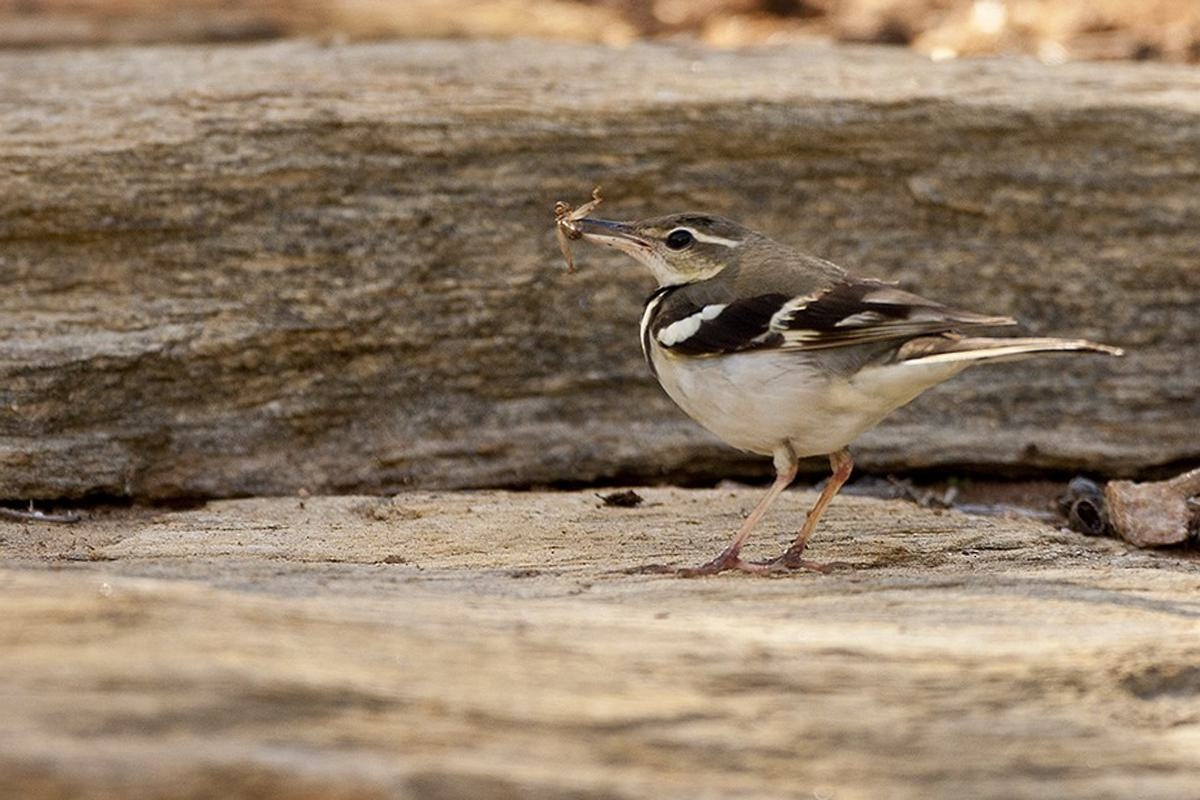wagtail: (510, 177, 1081, 522)
